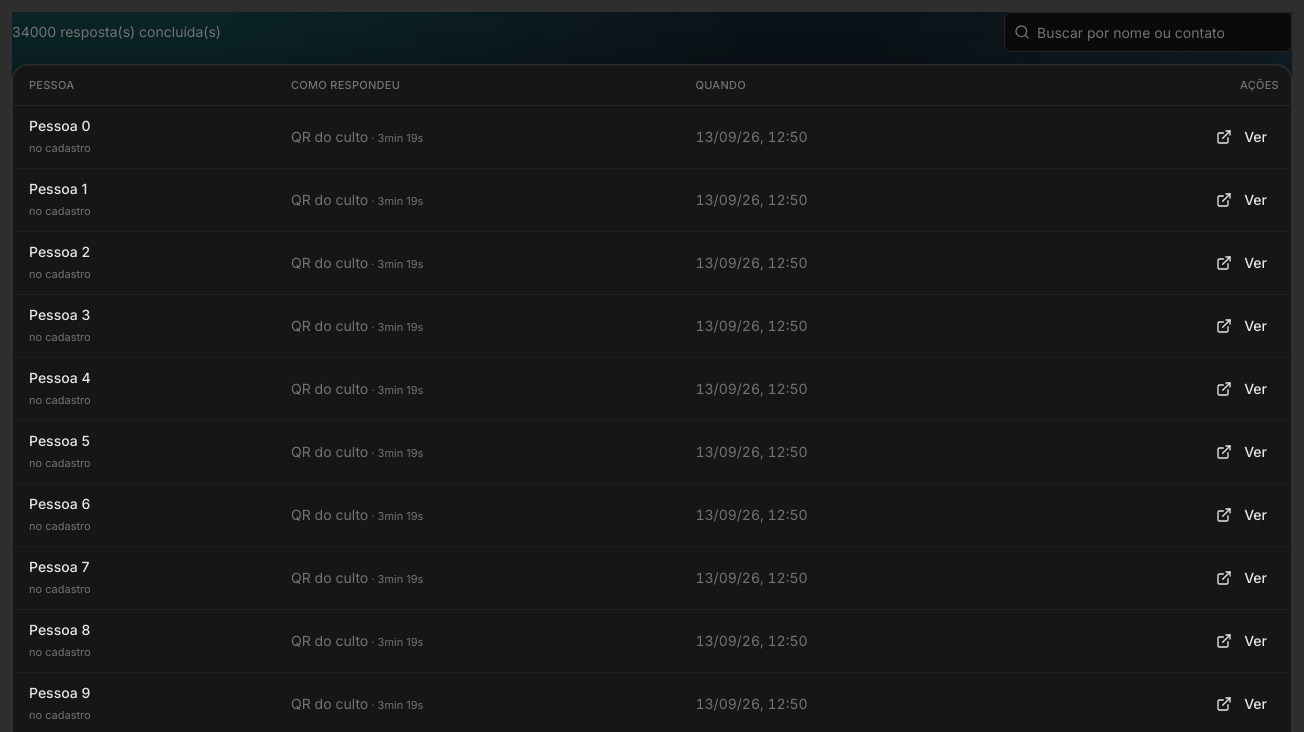
Test: AbaRespostas · o total é do banco, a página tem 50 › avisa quando a busca não alcançou tudo
This screenshot has width=1304, height=732.
Type "pessoa" into the field with placeholder "Buscar por nome ou contato" at (1148, 32), box [1004,12,1292,52]
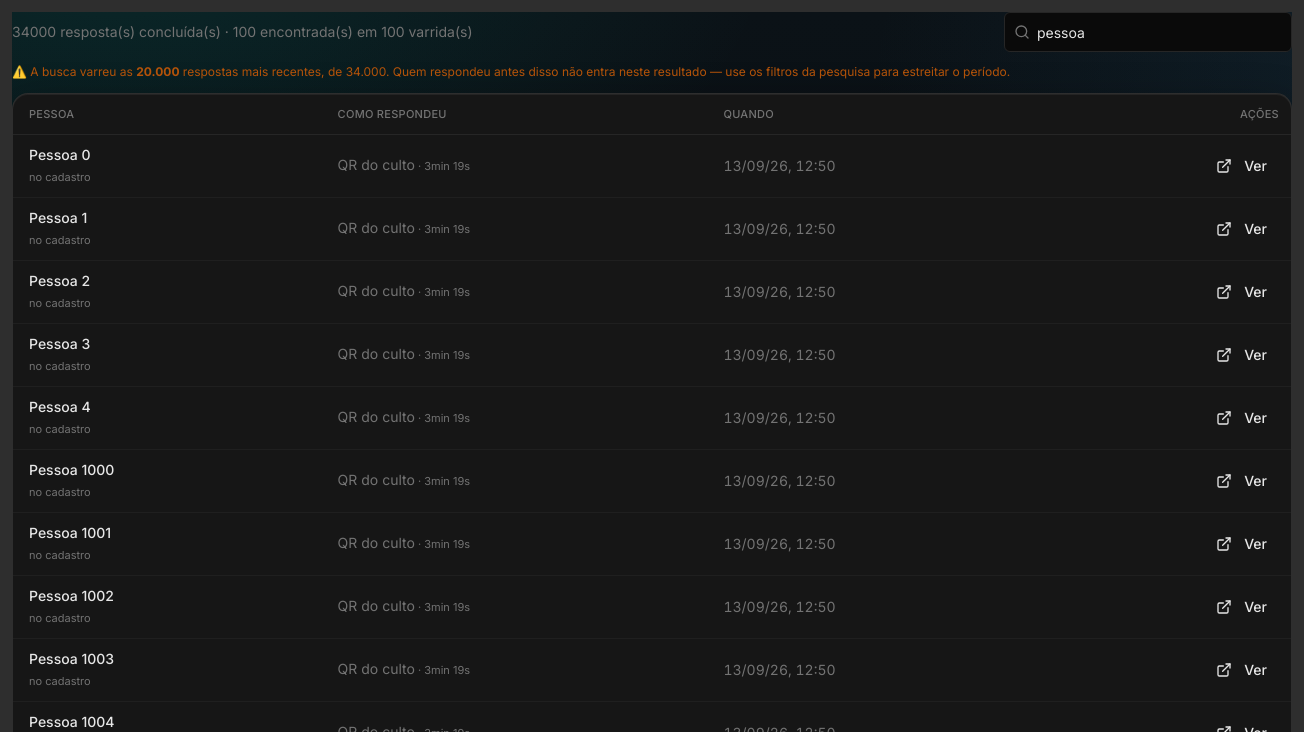
Check: the text "A busca varreu as" is shown, box [12,64,136,79]
Check: the text "não entra" is shown, box [386,64,1010,79]
